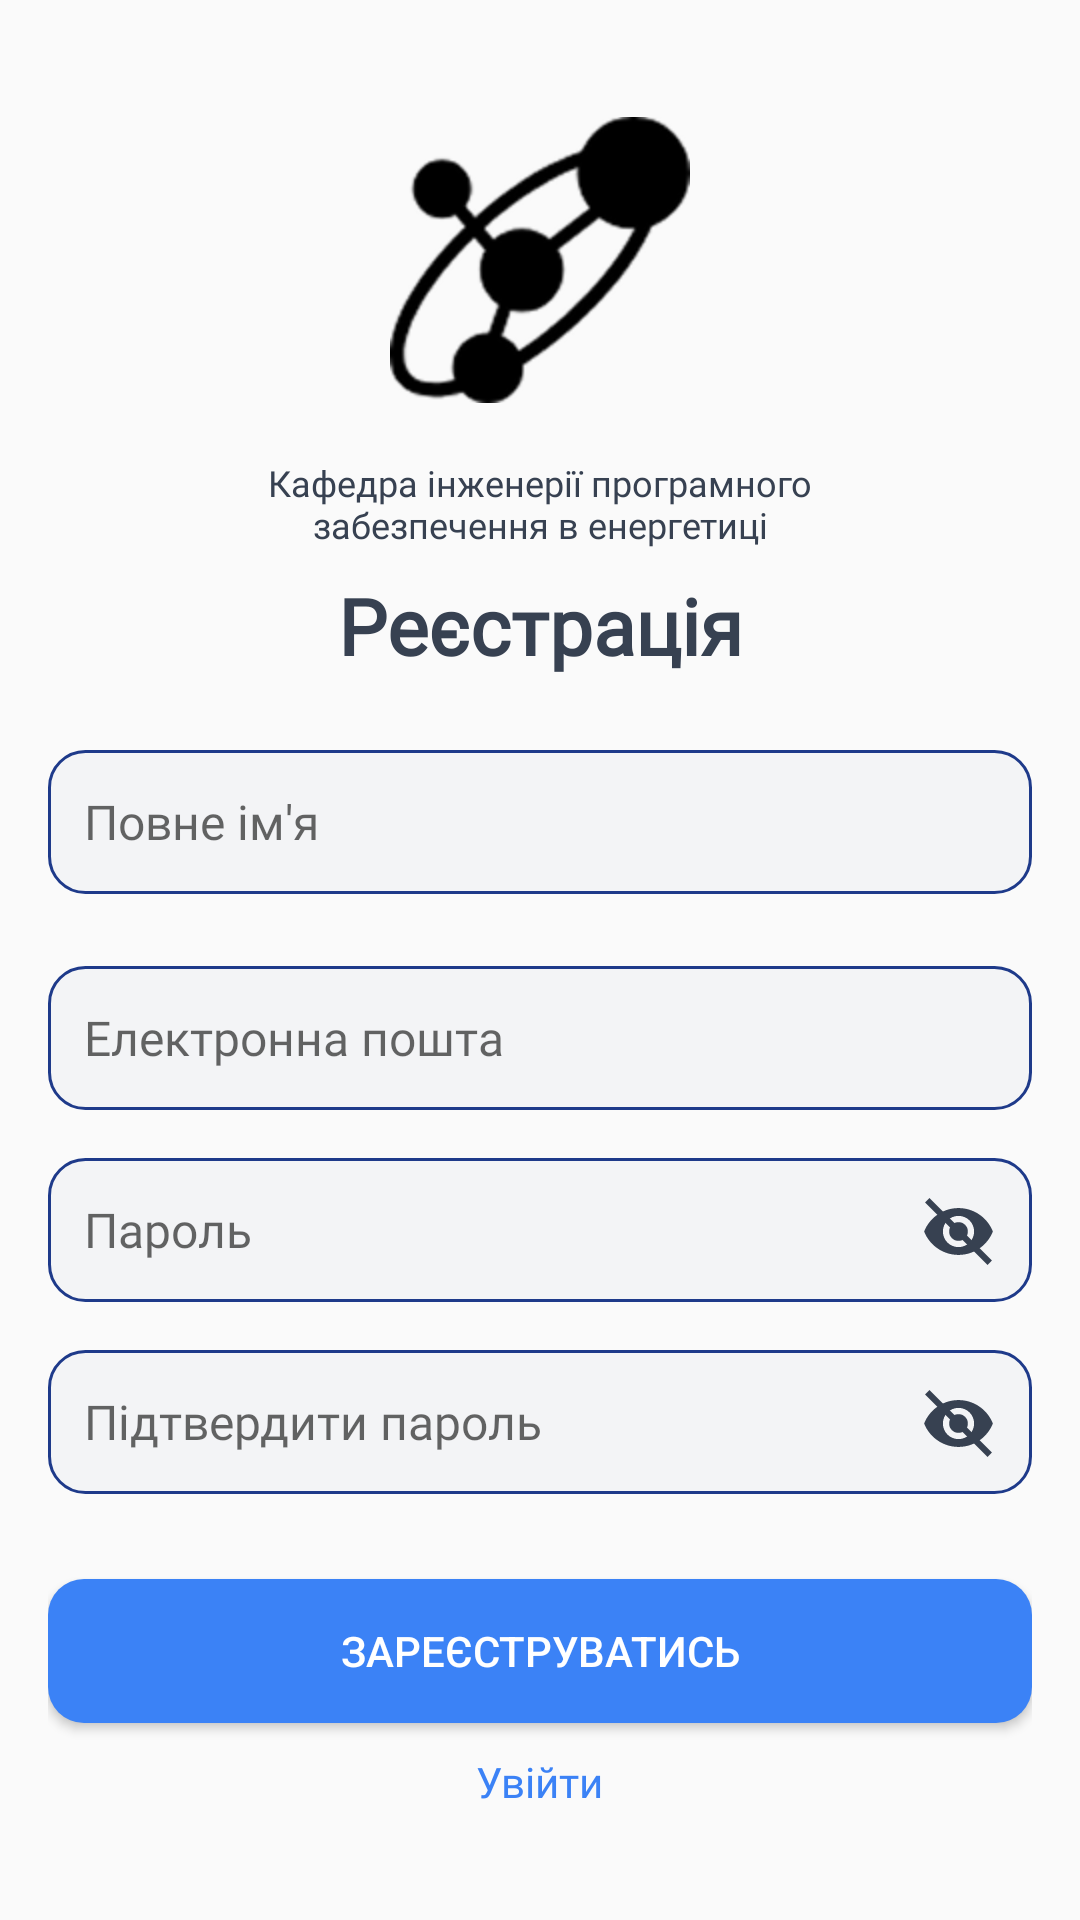

Where icons sit on this 1080w x 1920h app screen, as (x1, y1, x2, y2):
eye closed: (924, 1198, 993, 1265), (924, 1390, 993, 1457)
